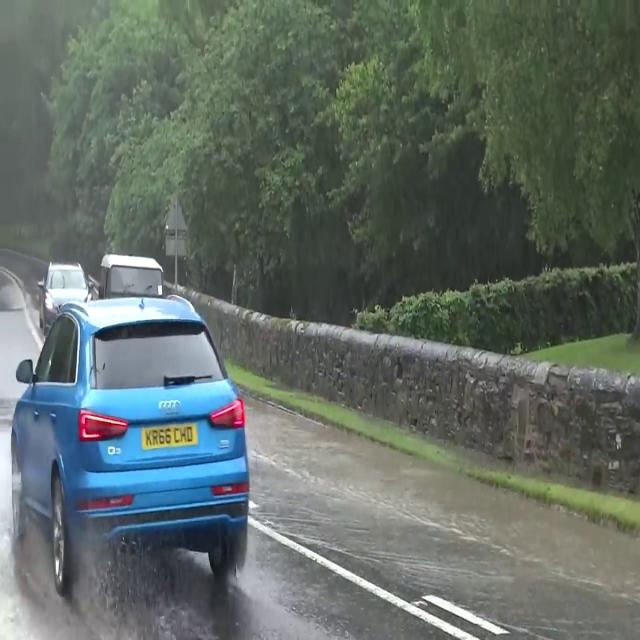license-plate-annotation: (135, 415, 203, 453)
